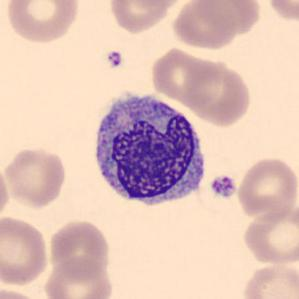Lymphocyte: (86, 87, 212, 215)
Platelets: (208, 173, 238, 200), (105, 49, 124, 70)
RBC: (186, 58, 253, 128), (148, 45, 223, 106), (234, 155, 298, 221), (2, 145, 68, 209), (46, 218, 112, 280), (170, 0, 244, 51), (0, 213, 50, 287), (240, 203, 298, 266), (3, 0, 81, 45), (42, 255, 115, 299), (107, 0, 177, 35), (195, 0, 263, 36), (240, 261, 298, 299), (263, 0, 299, 25), (0, 158, 12, 224), (0, 285, 46, 299), (127, 0, 190, 8)
